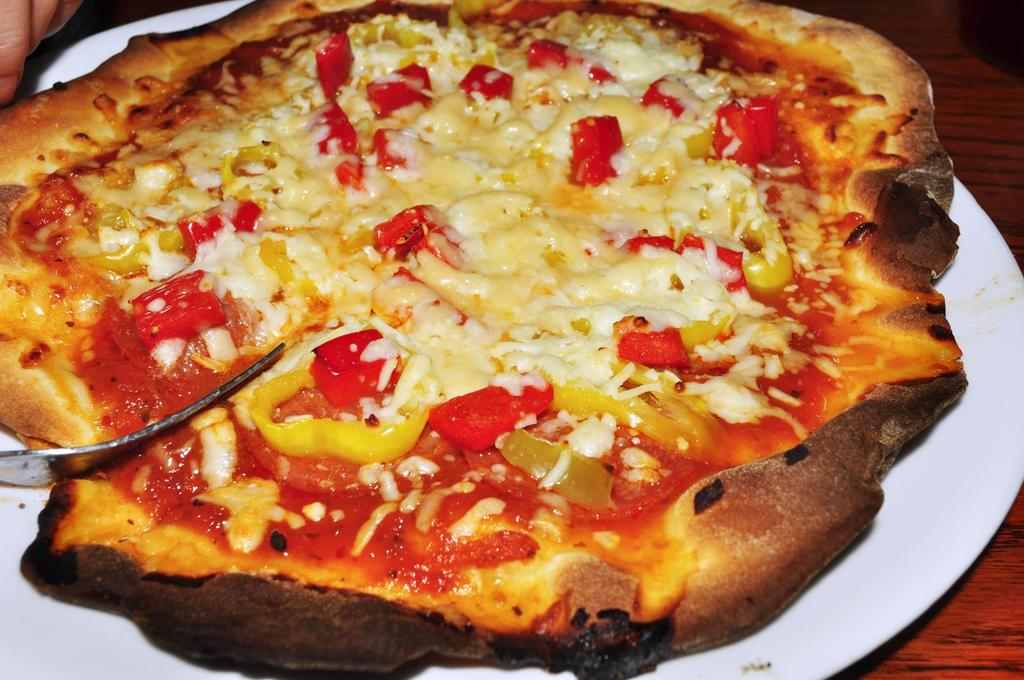Pizza: (1, 0, 995, 662)
